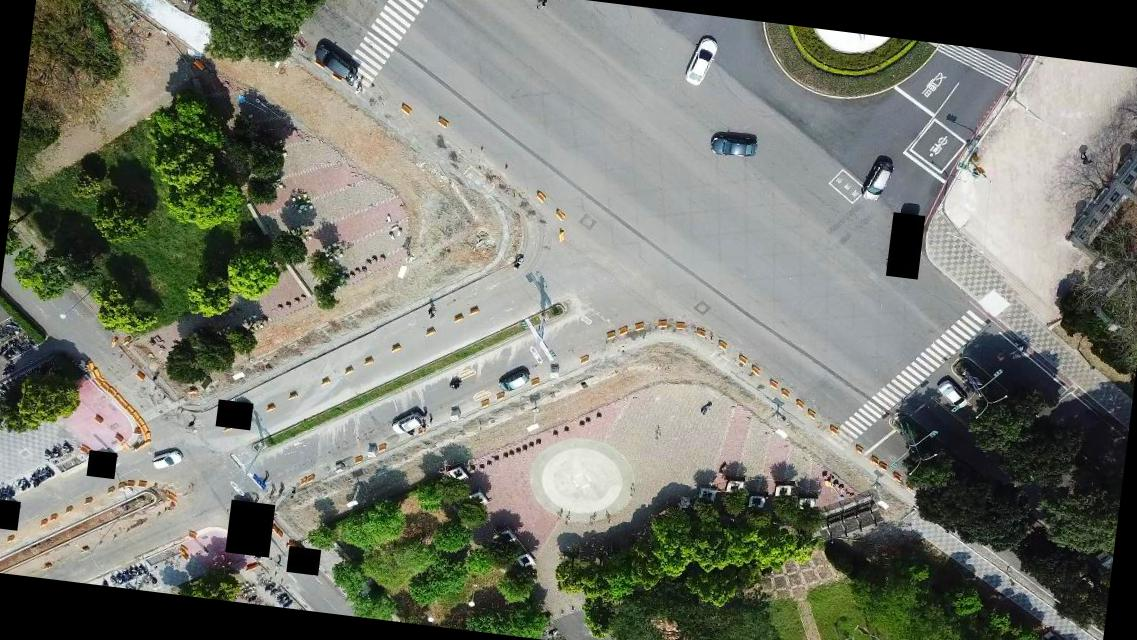vehicle: (682, 34, 718, 88), (310, 44, 359, 81), (860, 158, 894, 202), (708, 132, 758, 160), (936, 378, 969, 410), (496, 366, 530, 394), (150, 447, 183, 472), (390, 411, 422, 436)
